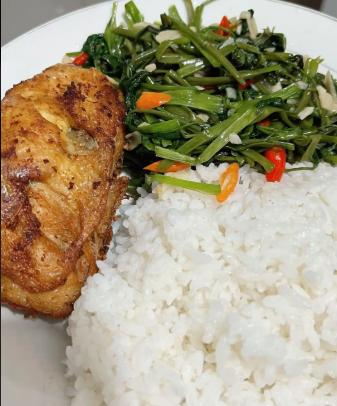buah_sayur_lainnya: (131, 51, 301, 150)
daging: (15, 83, 88, 282)
makanan_berpati: (123, 213, 331, 392)
